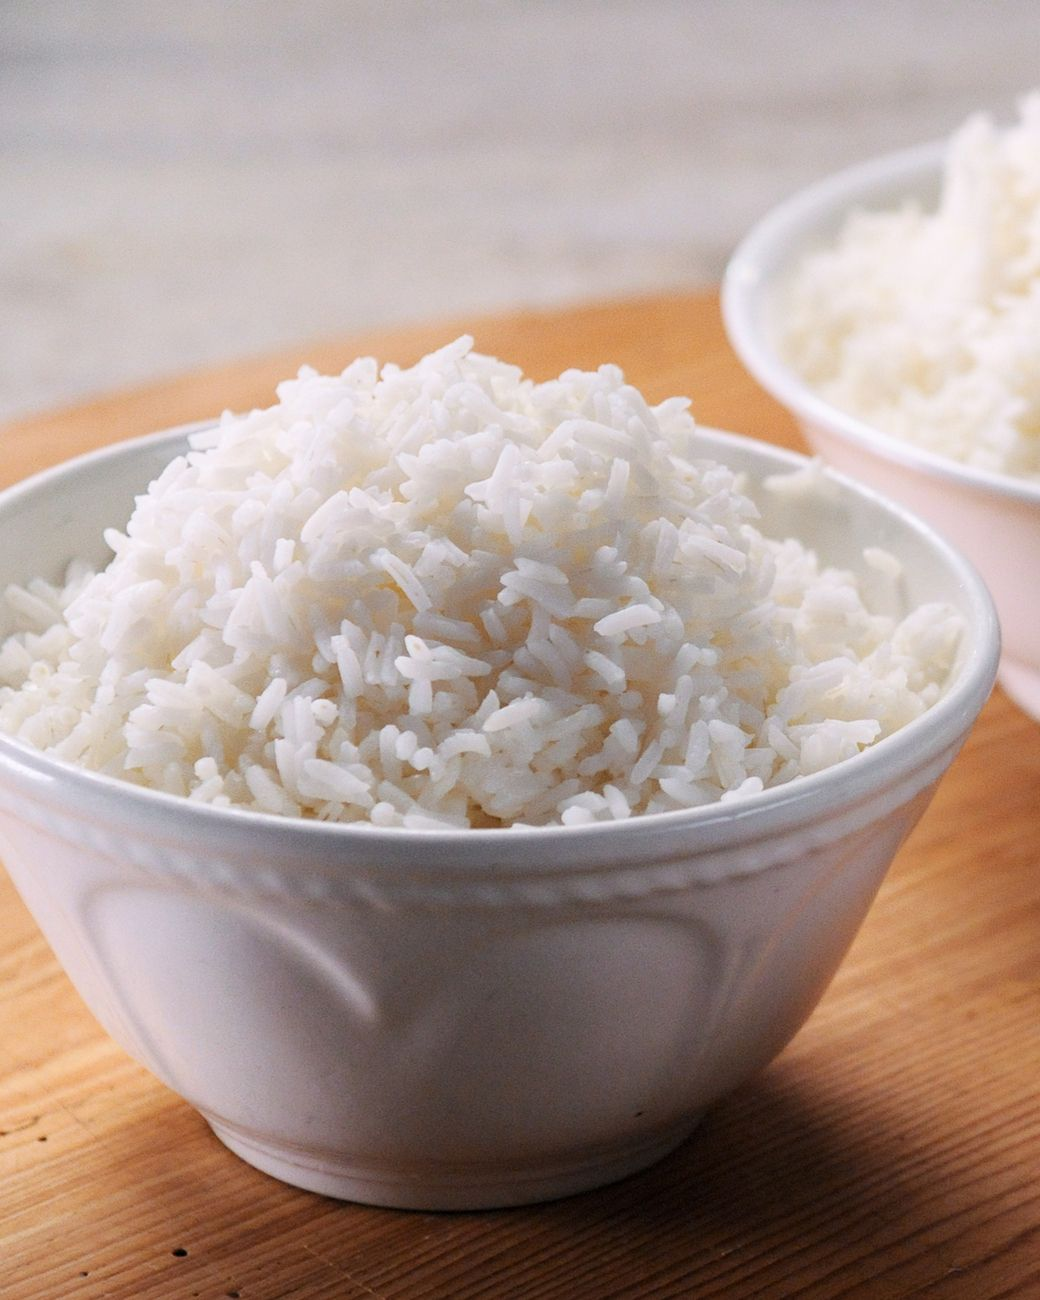Nasi Putih: (164, 376, 846, 853)
